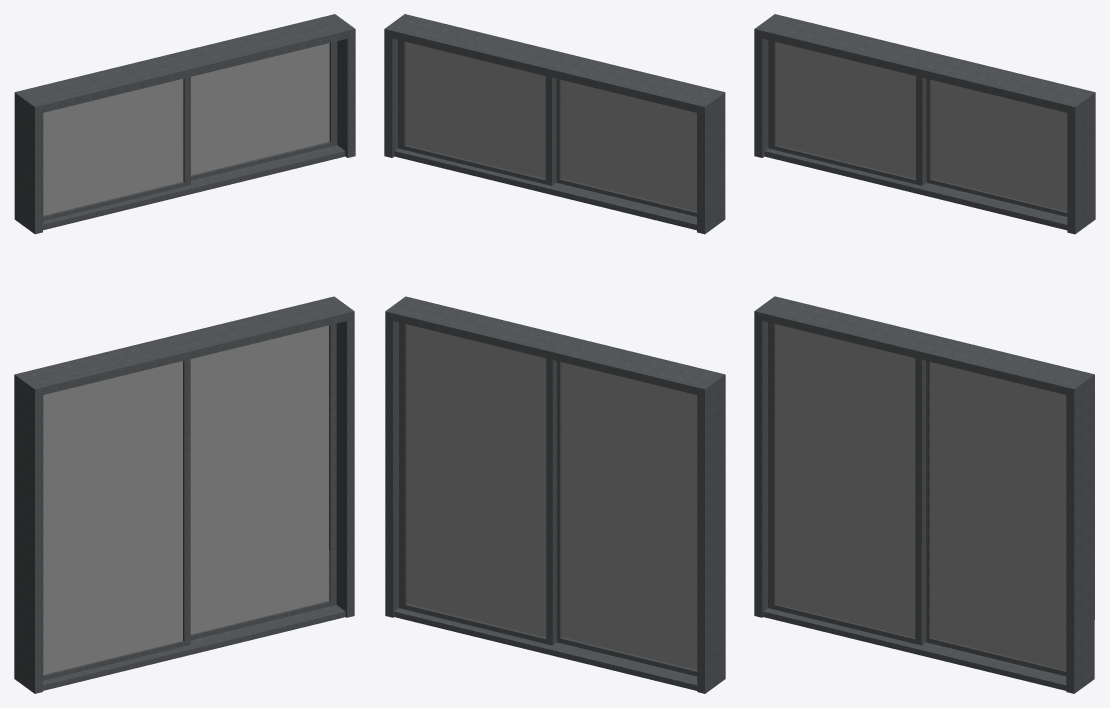
Rendered from chuanghu_01.FBX.
The picture shows the model from 3 angles, left to right: view 1: azimuth 30°, elevation 25°; view 2: azimuth 150°, elevation 25°; view 3: azimuth 330°, elevation 25°; orthographic projection.
Visible parts, largest first — view 1: fangzi_boli, fangzi_08; view 2: fangzi_boli, fangzi_08; view 3: fangzi_boli, fangzi_08.
Part boxes in pixels (bbox=[...]): fangzi_boli: bbox=[43, 43, 329, 674]; fangzi_08: bbox=[14, 14, 355, 693]; fangzi_boli: bbox=[406, 42, 697, 669]; fangzi_08: bbox=[384, 14, 725, 693]; fangzi_boli: bbox=[775, 42, 1067, 670]; fangzi_08: bbox=[754, 14, 1095, 693].
Bounding box in the file's own units: 266 × 465 × 29.44.
